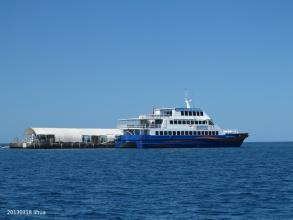yacht: (111, 93, 256, 153)
